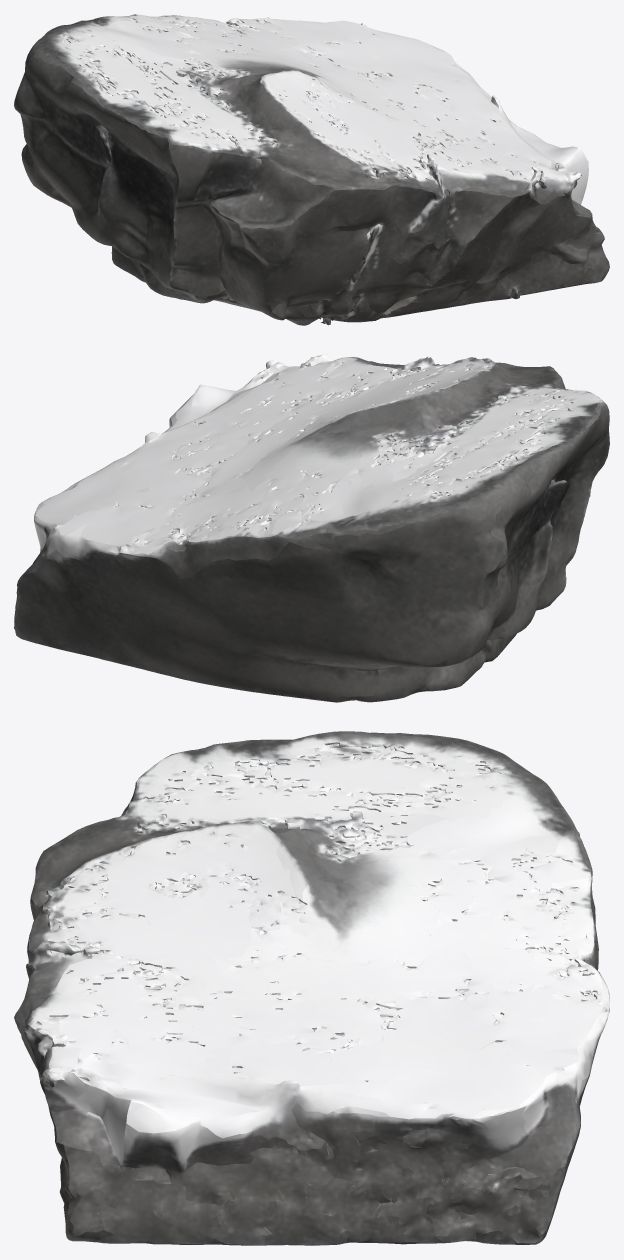
The picture shows the model from 3 angles, top to bottom: view 1: azimuth 30°, elevation 25°; view 2: azimuth 150°, elevation 25°; view 3: azimuth 270°, elevation 25°; orthographic projection. The views are drawn at different scales.
Visible parts, largest first — view 1: world; view 2: world; view 3: world.
Part boxes in pixels (x1,y1,x2,y2): world: (14, 14, 609, 325); world: (14, 354, 609, 702); world: (14, 731, 609, 1245).
Bounding box in the file's own units: 0.45 × 0.2135 × 0.4333.
1 material, 1 textured.
